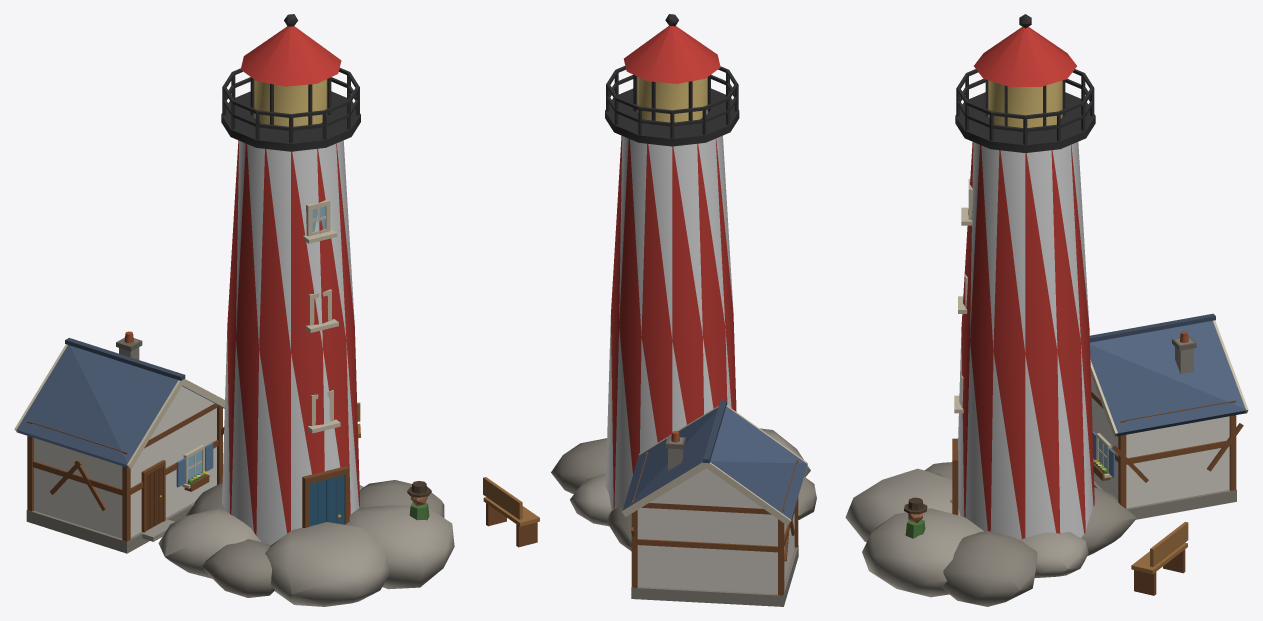
Rendered from lighthouse.glb.
3 renders of one model, left to right at view 1: azimuth 30°, elevation 25°; view 2: azimuth 150°, elevation 25°; view 3: azimuth 270°, elevation 25°, orthographic. The views are drawn at different scales.
Parts seen in each view (by area): view 1: town-lighthouse; view 2: town-lighthouse; view 3: town-lighthouse.
Part boxes in pixels (<box>): town-lighthouse: <box>14,14,454,606</box>; town-lighthouse: <box>483,14,816,606</box>; town-lighthouse: <box>845,14,1248,606</box>.
Size of the model in its own units: 6.36 by 9.92 by 6.61.
